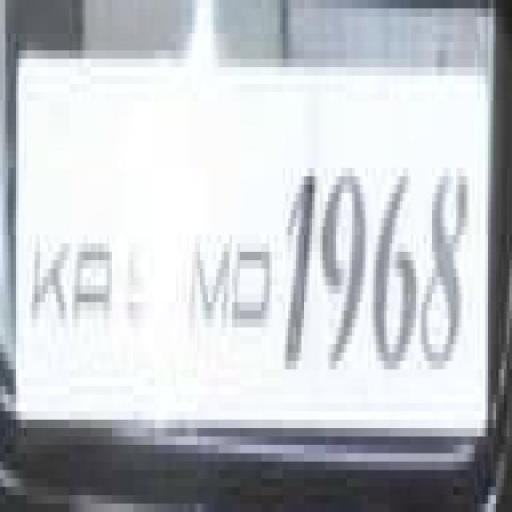number plate: (0, 8, 494, 469)
